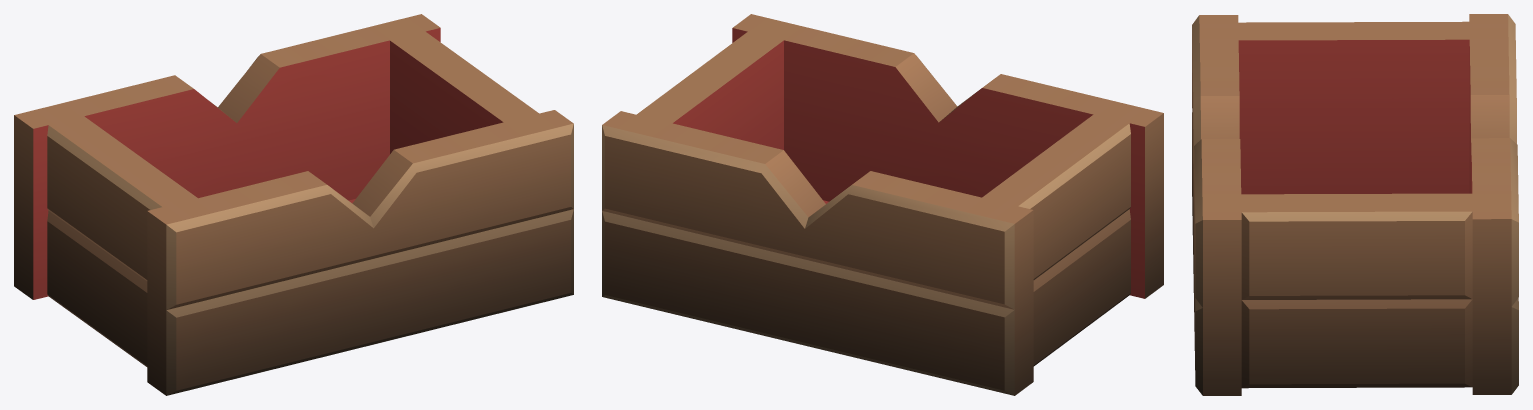
File: Crate_A.fbx
3 views of the same model, side by side, from view 1: azimuth 30°, elevation 25°; view 2: azimuth 150°, elevation 25°; view 3: azimuth 270°, elevation 25° (orthographic). The views are drawn at different scales.
Parts seen in each view (by area): view 1: Crate_A; view 2: Crate_A; view 3: Crate_A.
Boxes of the visible parts, <box> form: Crate_A: <box>14,14,573,395</box>; Crate_A: <box>602,14,1163,395</box>; Crate_A: <box>1192,14,1518,395</box>.
Bounding box in the file's own units: 1.51 × 0.6 × 1.01.
